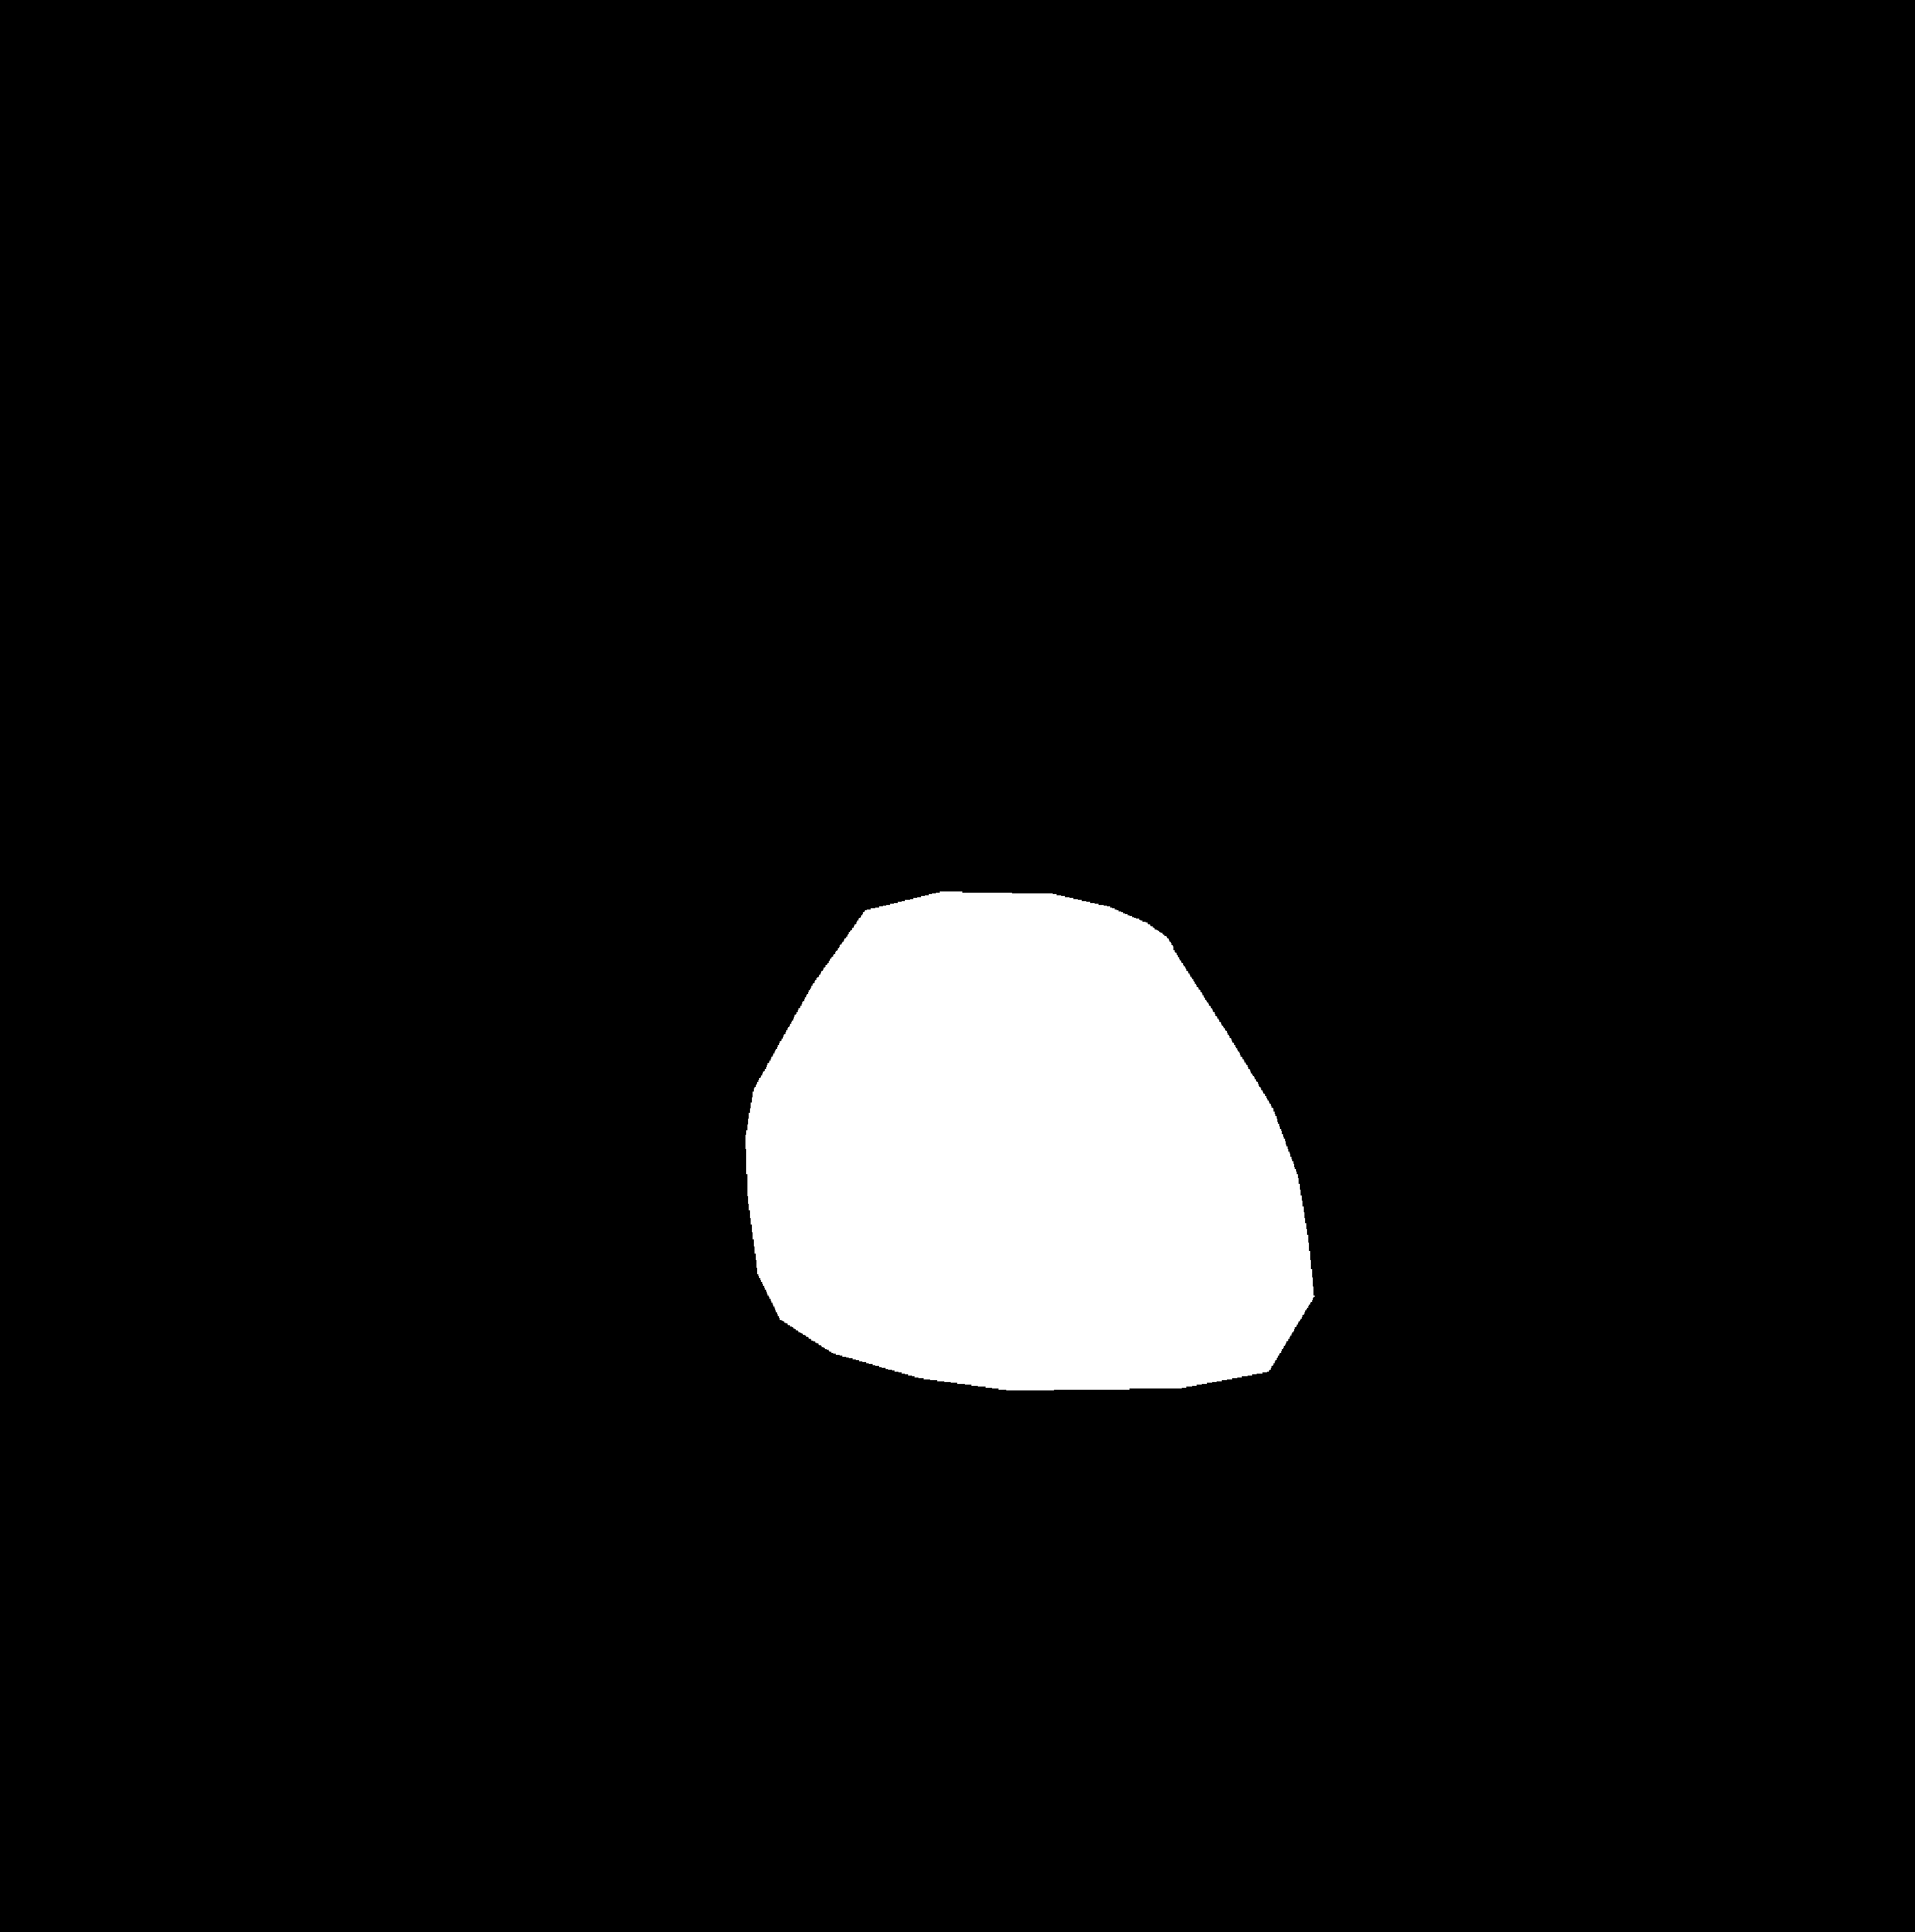heart: (744, 948, 1321, 1366)
left_lung: (289, 200, 903, 1481)
right_lung: (1012, 212, 1561, 1502)
